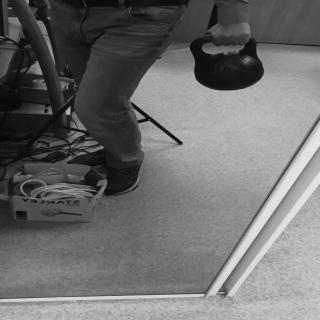kettlebell: (190, 35, 264, 92)
